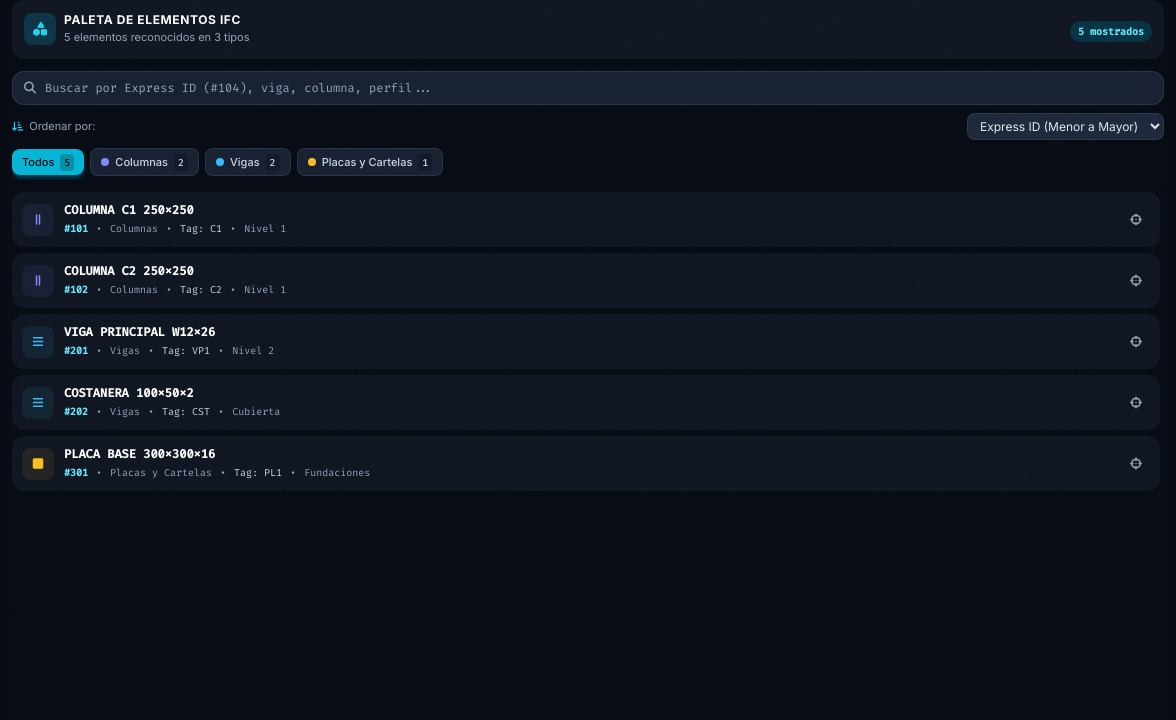
IfcElementsPalette - Paleta e Inventario de Elementos IFC › permite filtrar elementos por chip de categoría
// Seleccionar chip 'Vigas'
Click the button "Vigas 2": (248, 162) [205, 148, 291, 176]
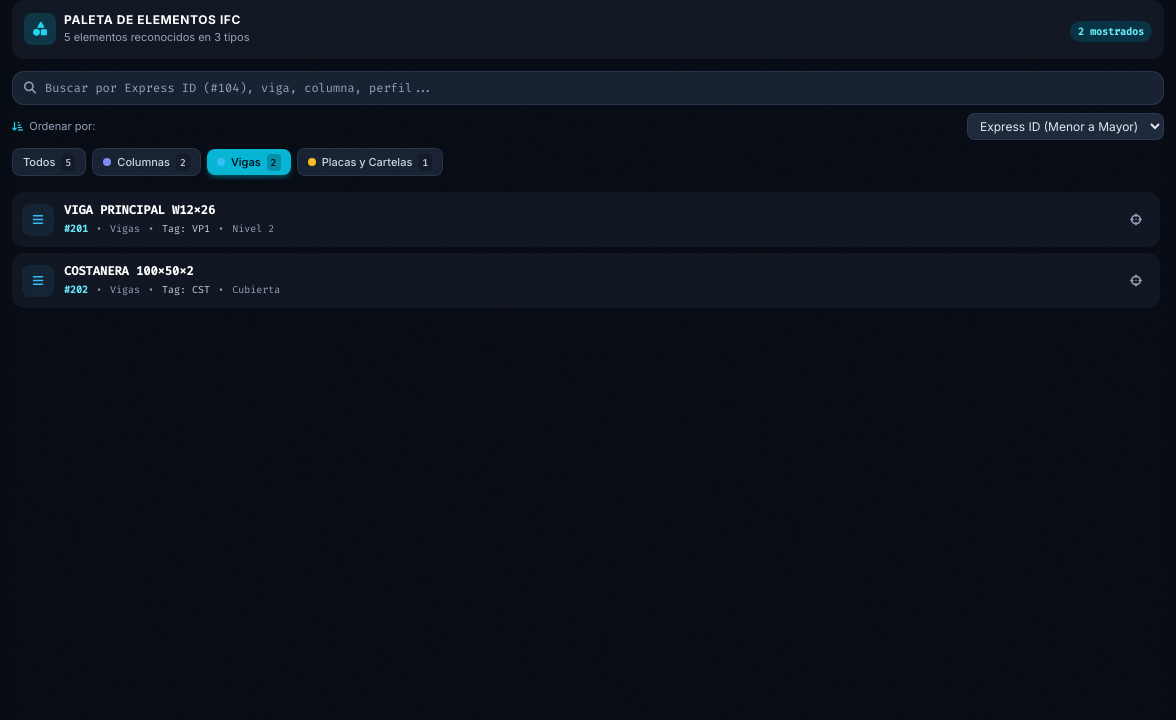
Expected: the text "VIGA PRINCIPAL W12x26" is shown, [64, 202, 215, 218]
Expected: the text "COLUMNA C1 250x250" is gone
